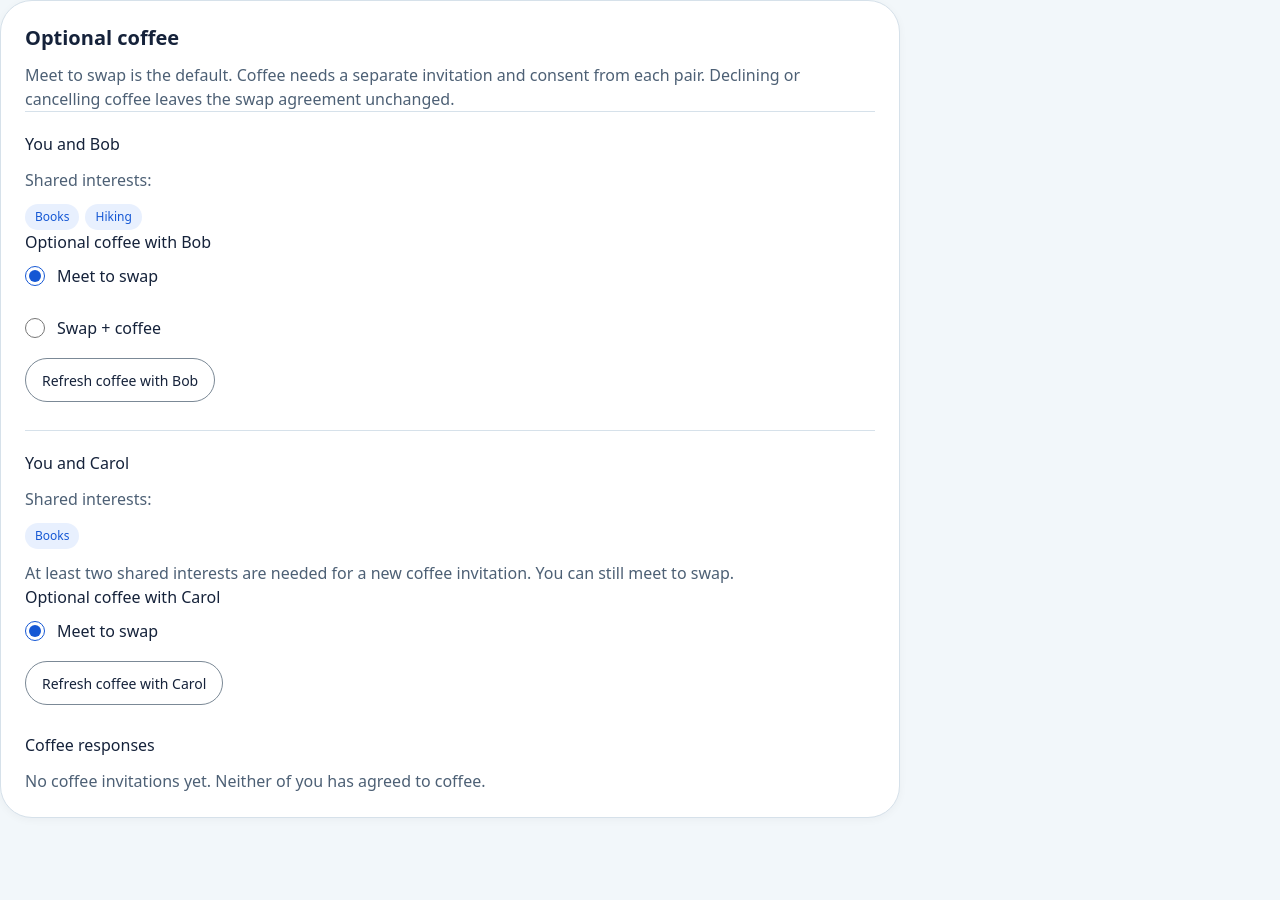
Scenario: eligibility refresh hides invitation controls while preserving selection and offer
Click the radio button labelled "Swap + coffee" at (35, 328), box [25,318,45,338]
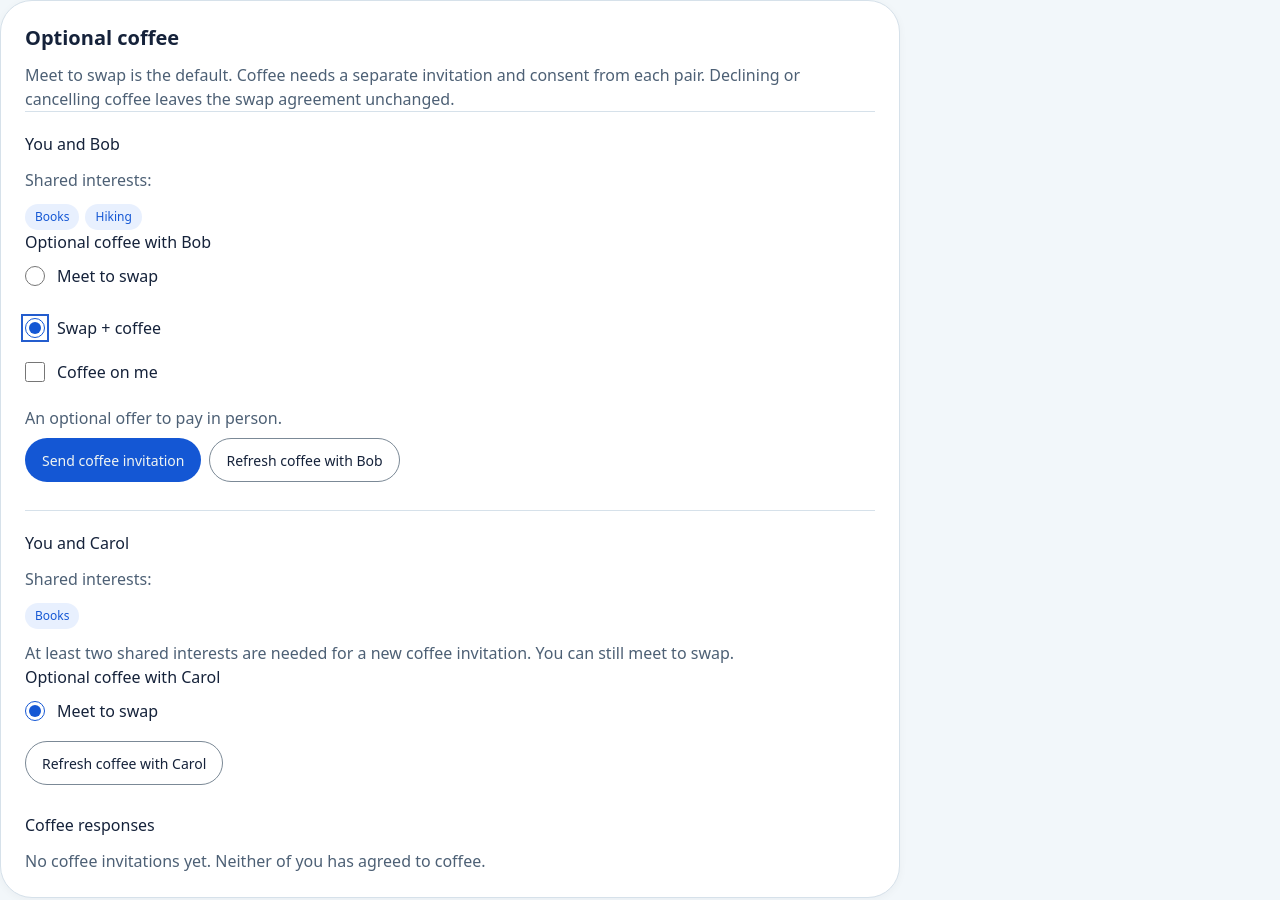
Click the checkbox labelled "Coffee on me" at (35, 372), box [25,362,45,382]
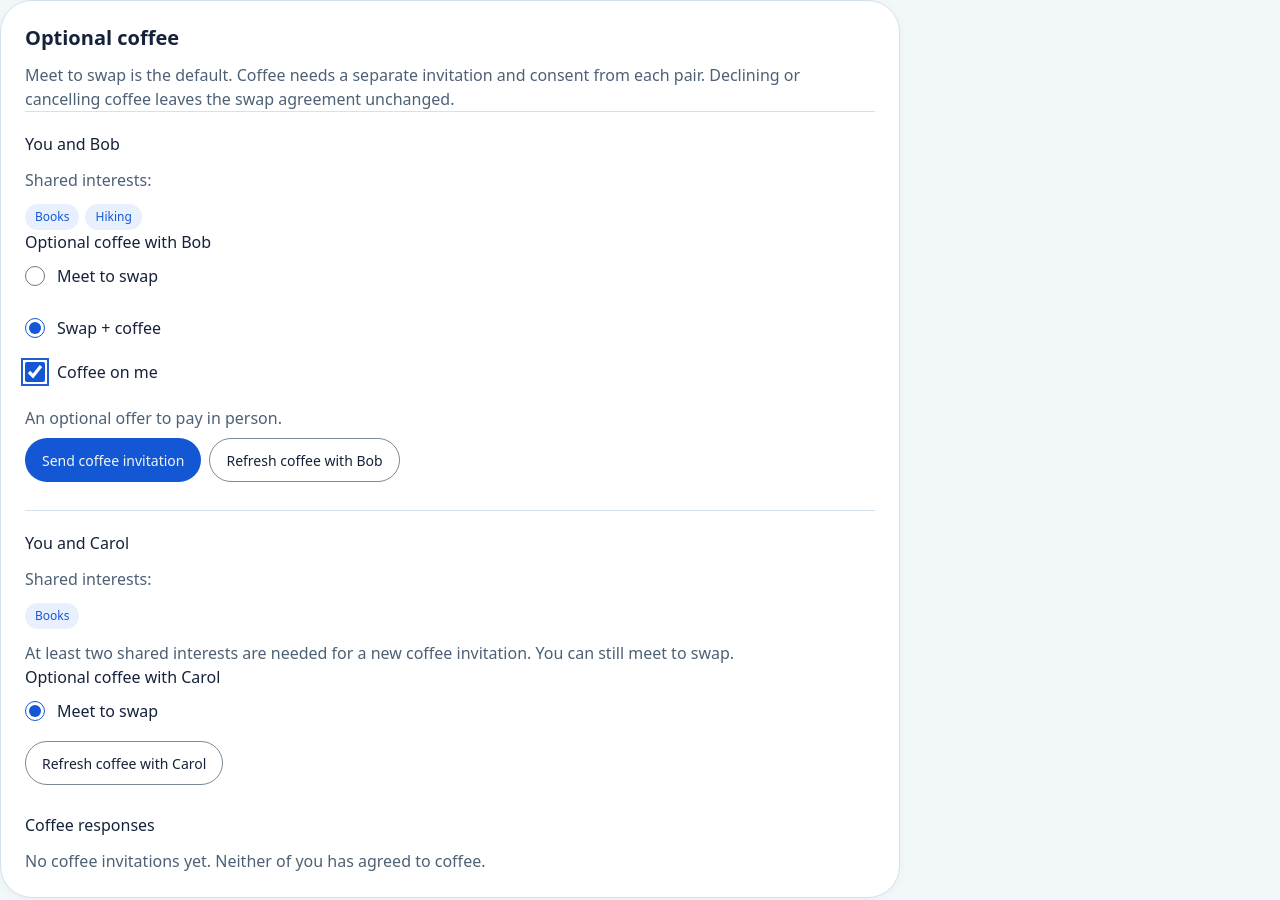
Click the button "Refresh coffee with Bob" at (304, 460), box [209,438,400,482]
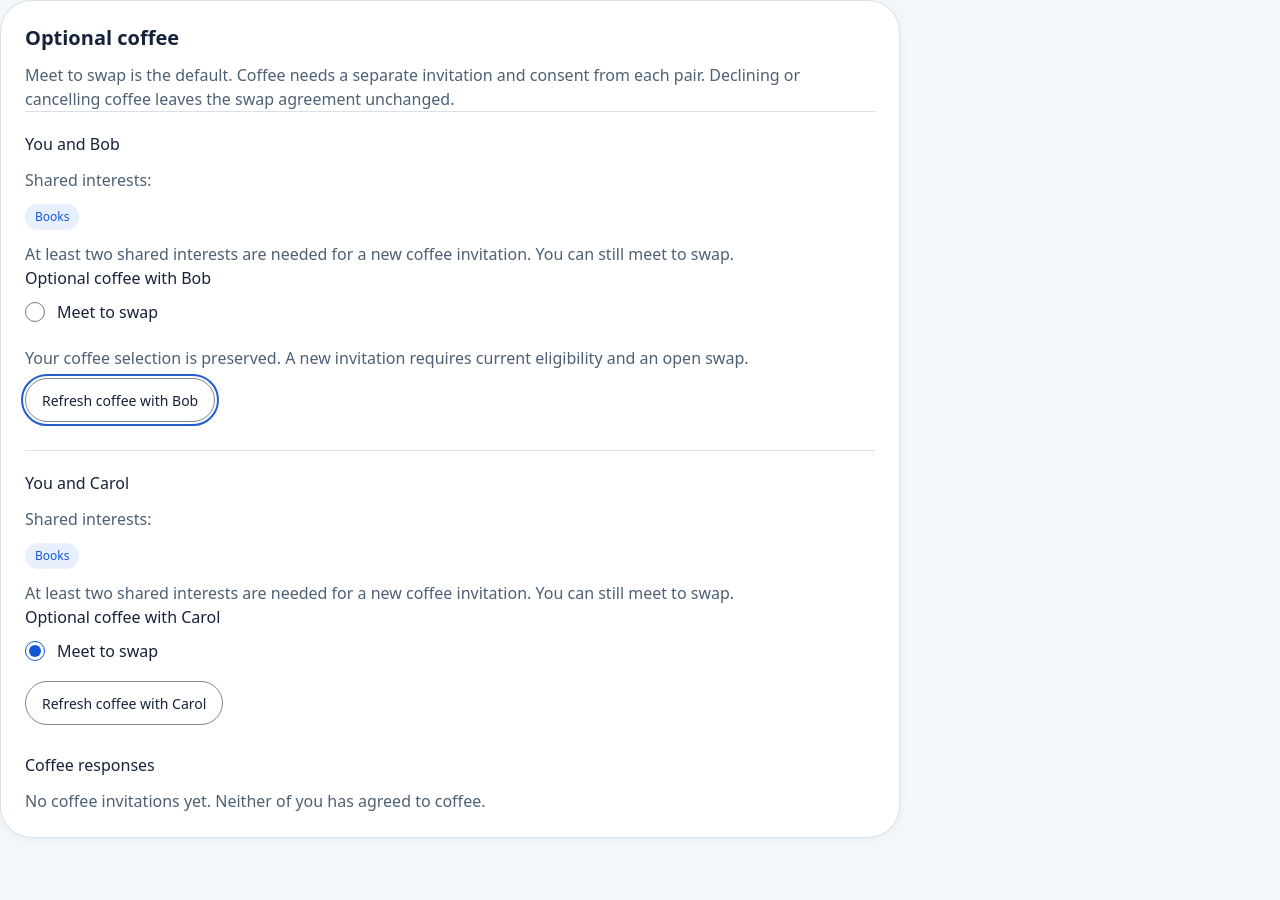
Expected: the text "Your coffee selection is preserved" is shown, [25,347,748,369]
Expected: the label labelled "Coffee on me" is gone
Expected: the button "Send coffee invitation" is gone
Click the button "Refresh coffee with Bob" at (120, 400), box [25,378,215,422]
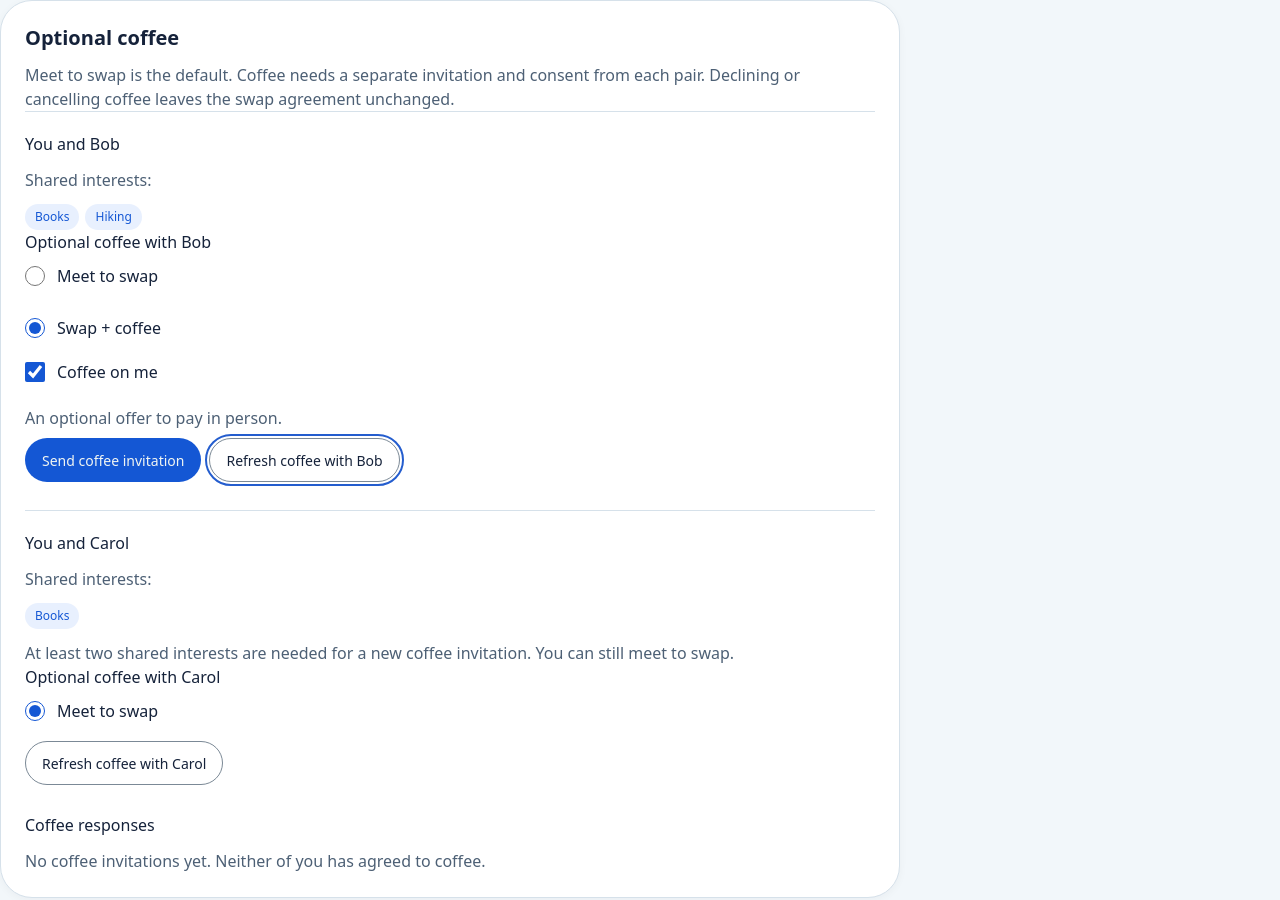
Expected: the checkbox labelled "Coffee on me" is checked, [25,362,45,382]
